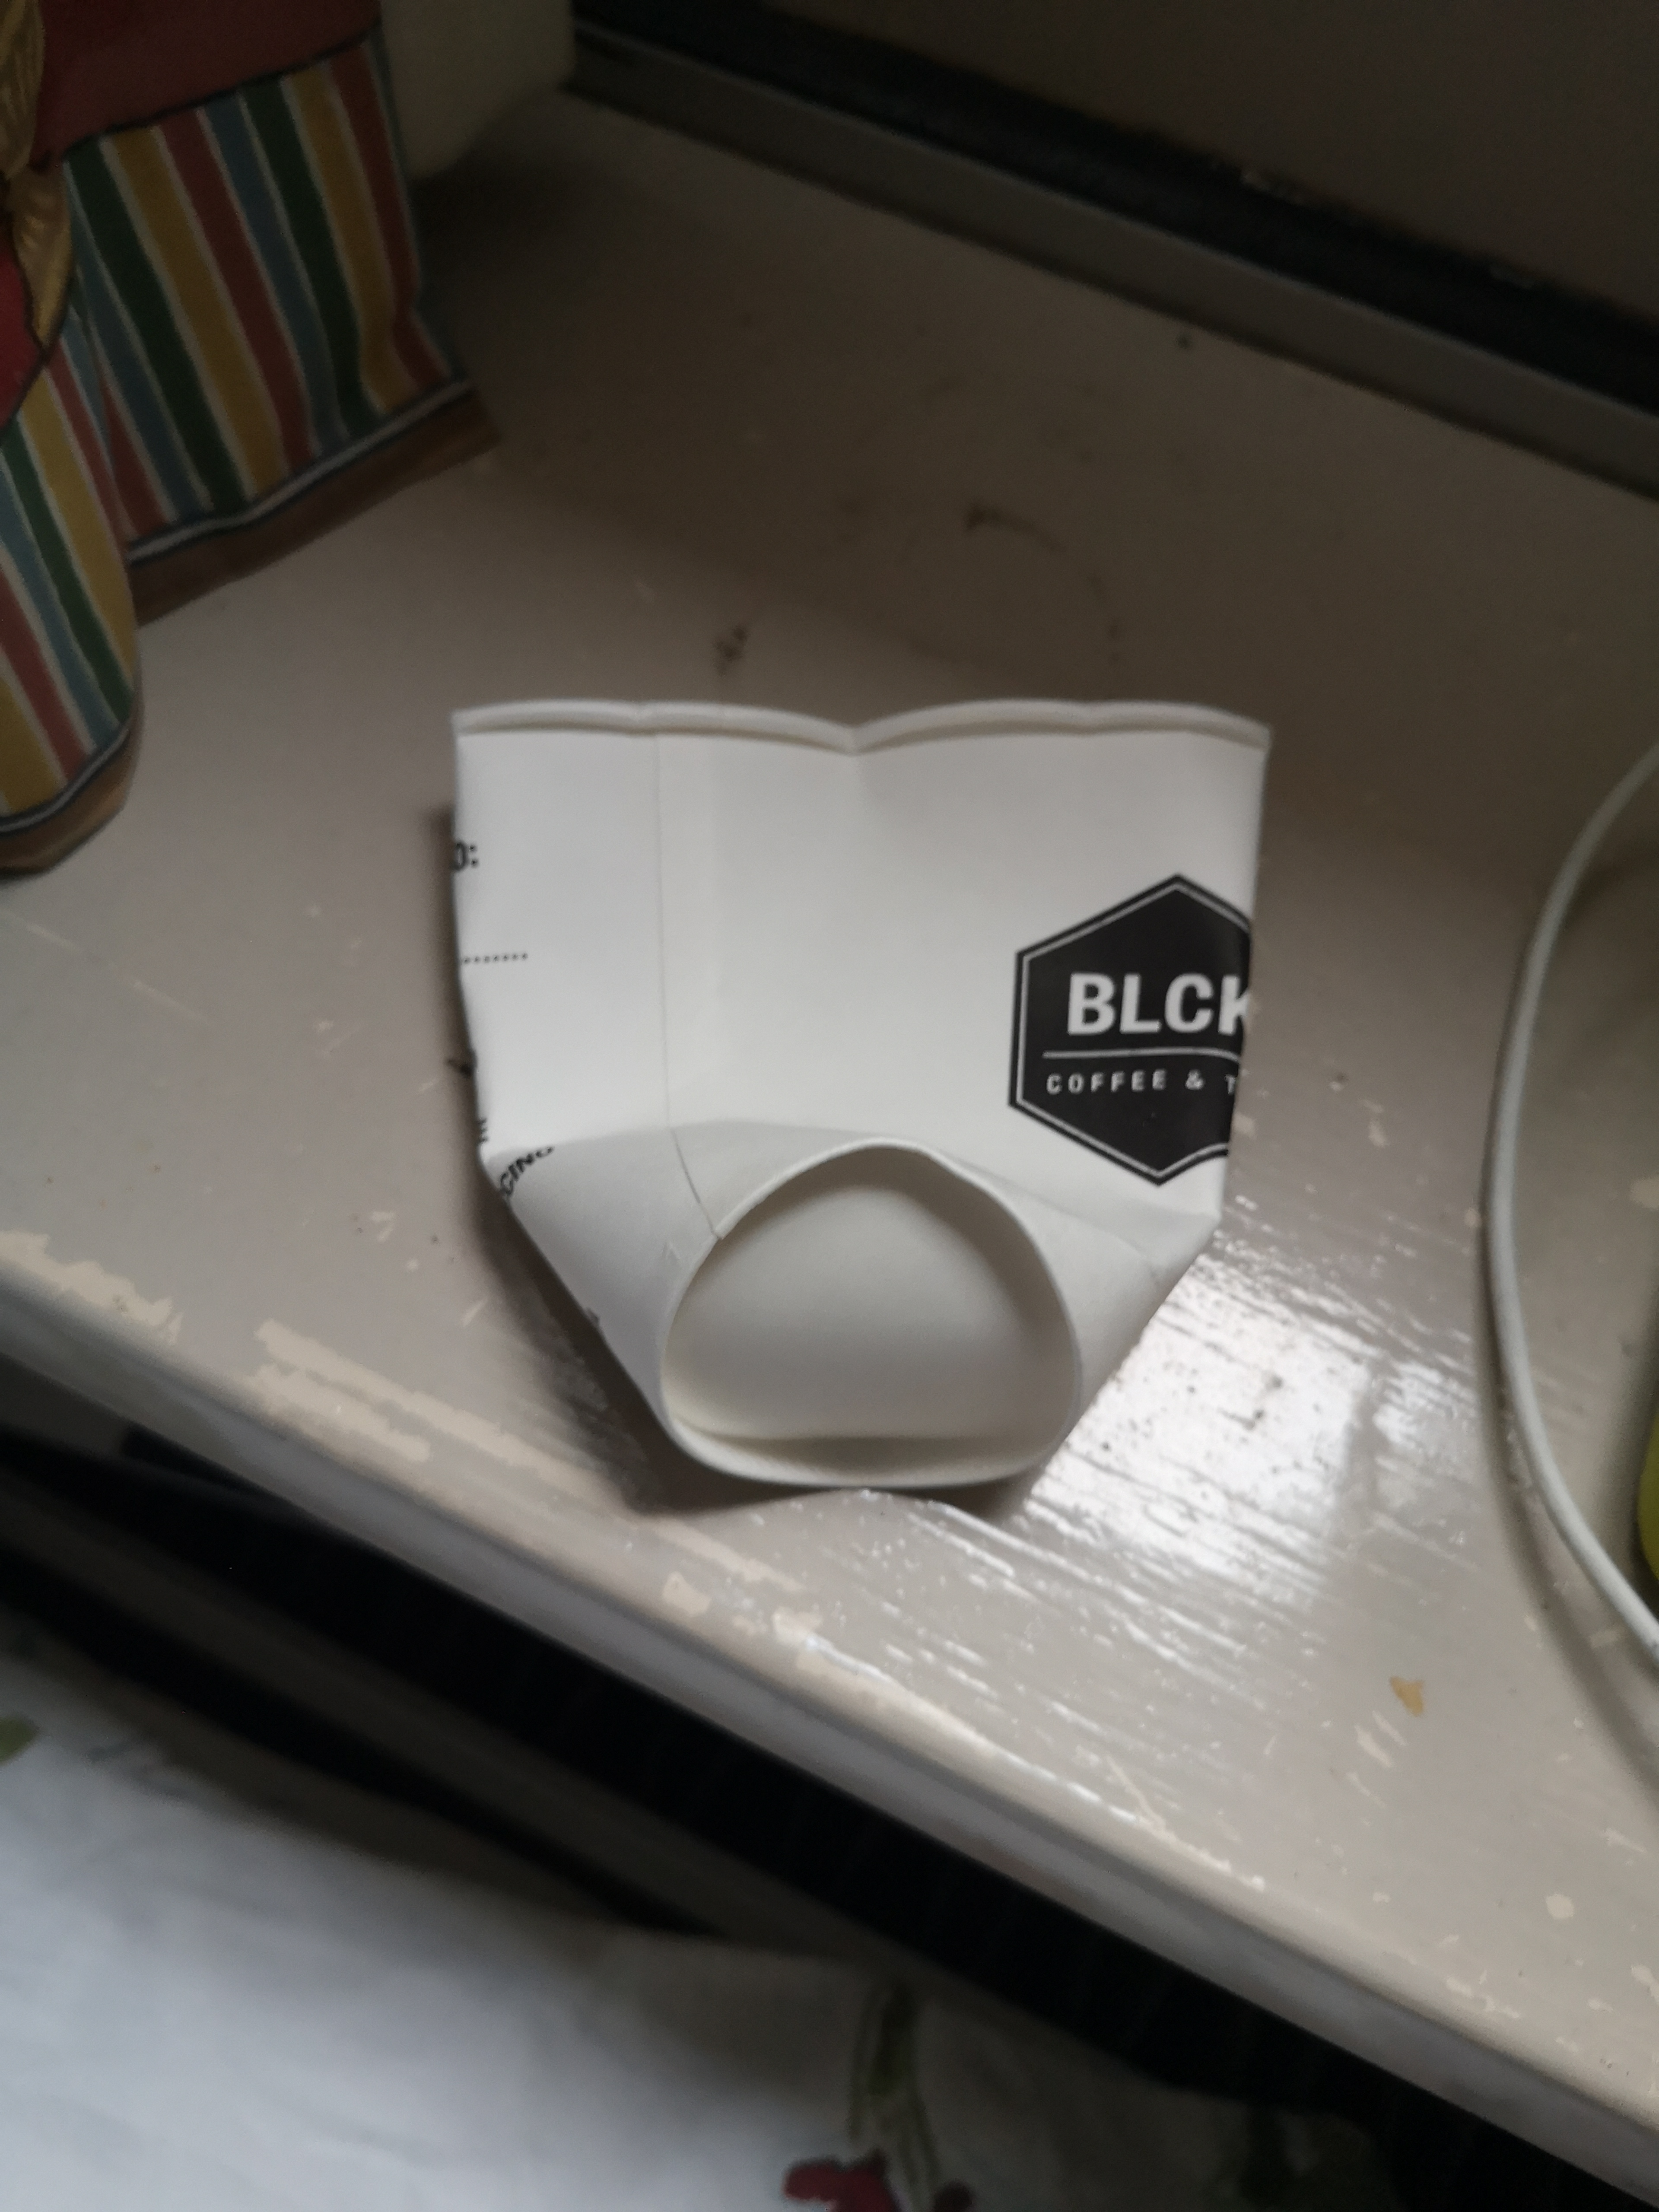cup: (434, 660, 1297, 1508)
